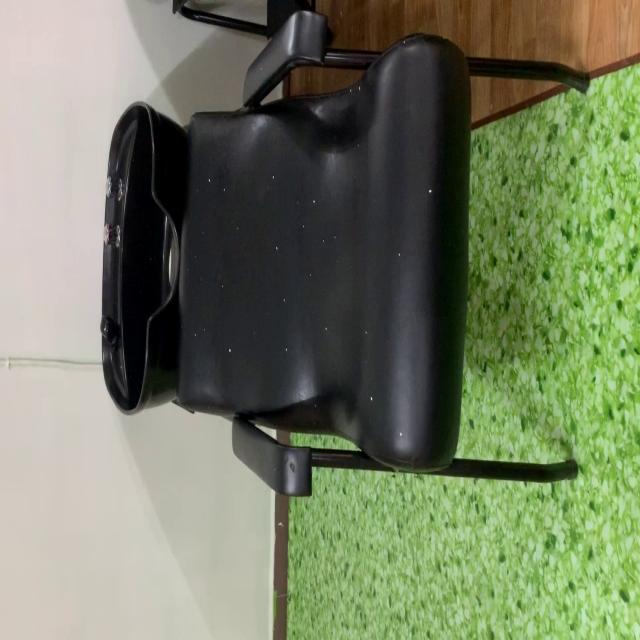Chair: (98, 21, 594, 524)
